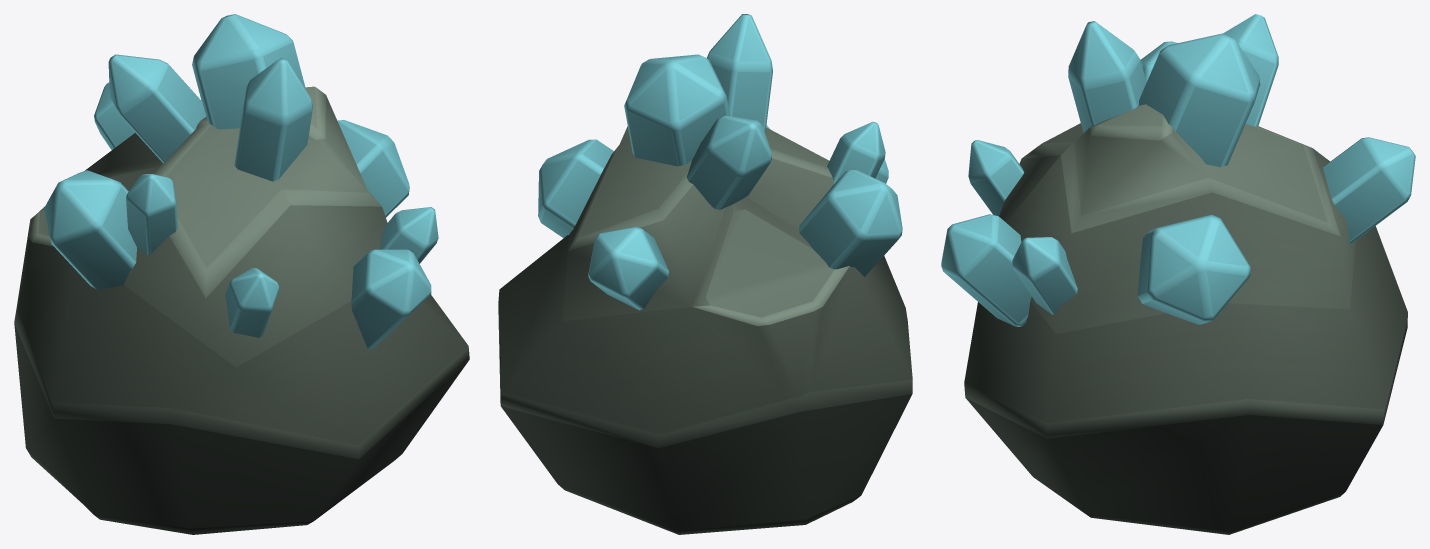
The picture shows the model from 3 angles, left to right: view 1: azimuth 30°, elevation 25°; view 2: azimuth 150°, elevation 25°; view 3: azimuth 270°, elevation 25°; orthographic projection. The views are drawn at different scales.
Visible parts, largest first — view 1: ore_christal_saphire_L_cube_mat_0.005; view 2: ore_christal_saphire_L_cube_mat_0.005; view 3: ore_christal_saphire_L_cube_mat_0.005.
Boxes of the visible parts, <box> form: ore_christal_saphire_L_cube_mat_0.005: <box>14,14,469,534</box>; ore_christal_saphire_L_cube_mat_0.005: <box>498,14,912,534</box>; ore_christal_saphire_L_cube_mat_0.005: <box>941,14,1415,534</box>.
Bounding box in the file's own units: 192 × 234 × 199.
1 material, 1 textured.
